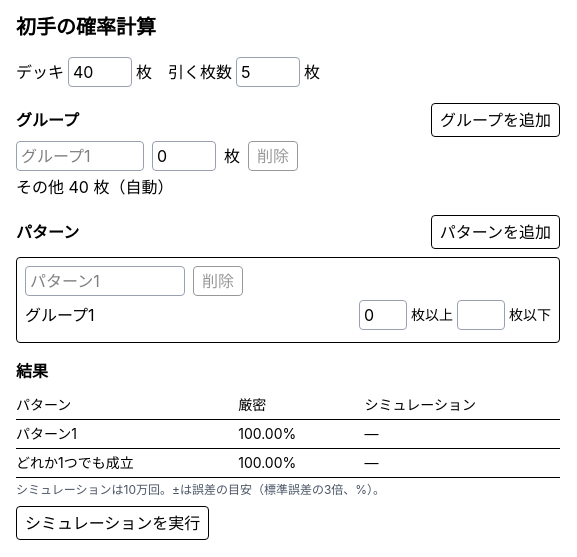
グループの枚数を入れると、その他が減る
The image size is (577, 557).
In the number field named "グループ1の枚数": (184, 156) [152,141,216,171], type "9"
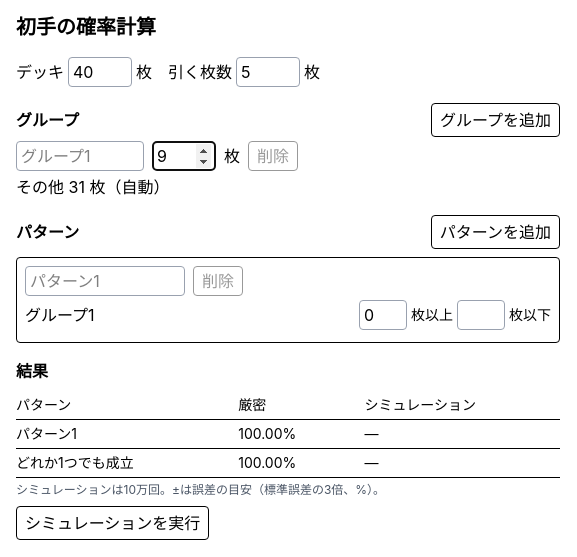
expect the text "その他 31 枚（自動）" is shown: met, box [16,177,169,197]
